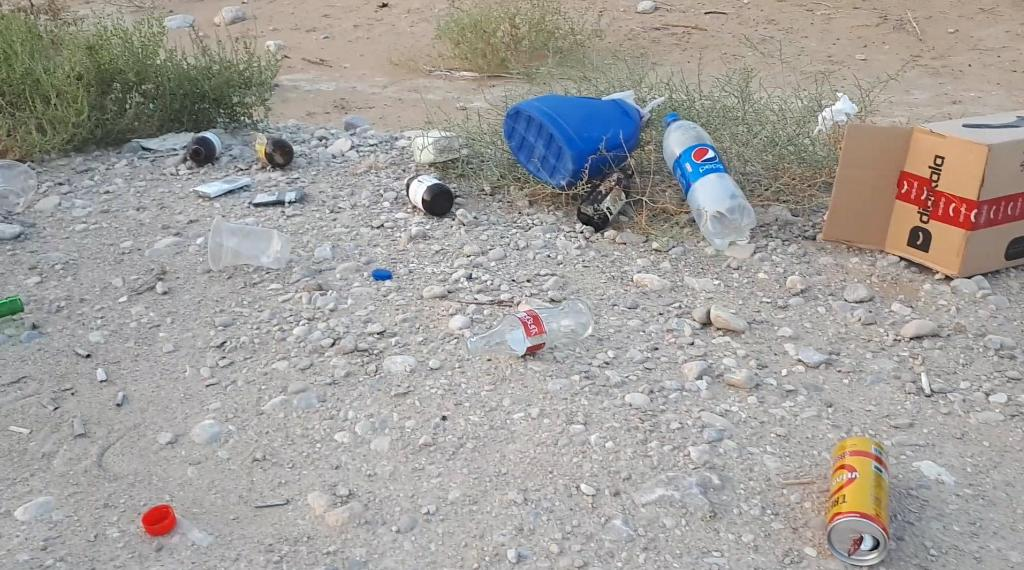garbage: (811, 87, 1024, 286), (645, 99, 763, 259), (489, 86, 656, 194), (662, 113, 757, 251), (503, 94, 642, 188), (448, 305, 615, 364), (821, 430, 892, 567), (825, 436, 890, 566), (465, 298, 594, 356), (577, 164, 634, 232), (401, 170, 464, 224), (245, 126, 303, 173), (182, 127, 232, 174), (404, 174, 454, 216), (252, 134, 294, 167), (187, 131, 222, 165), (1, 296, 24, 318)
